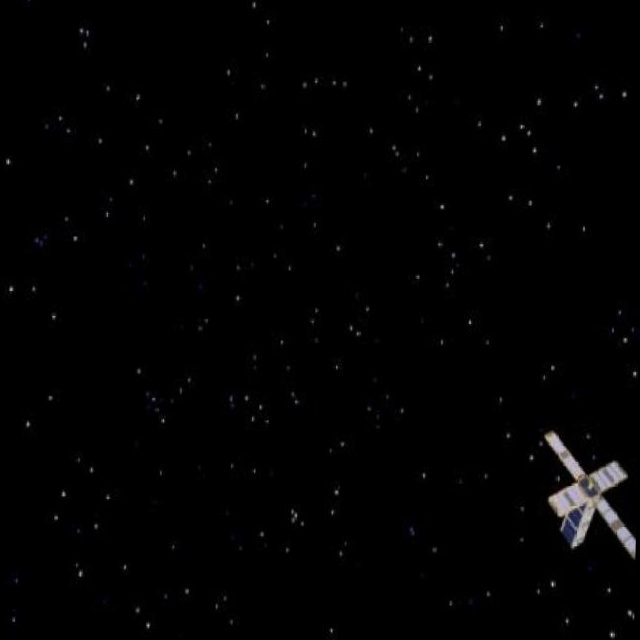medium_debris: (526, 431, 638, 566)
